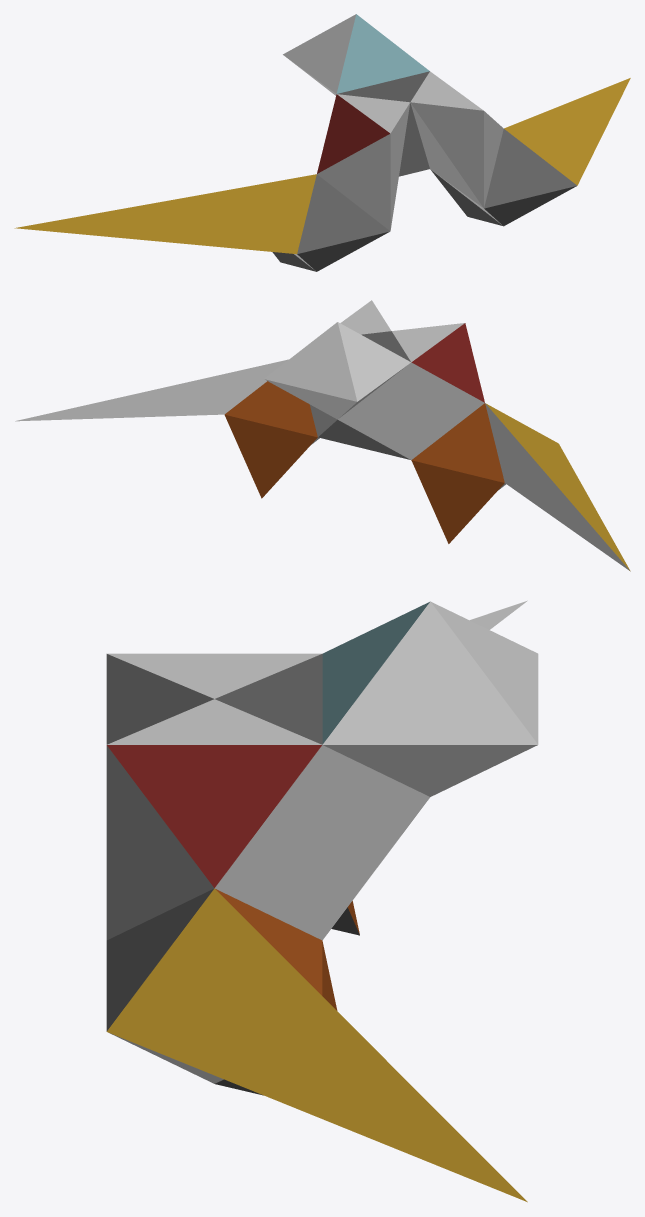
Rendered from Punisher.obj.
3 views of the same model, one above another, from view 1: azimuth 30°, elevation 25°; view 2: azimuth 150°, elevation 25°; view 3: azimuth 270°, elevation 25° (orthographic). The views are drawn at different scales.
Visible parts, largest first — view 1: Punisher; view 2: Punisher; view 3: Punisher.
Boxes of the visible parts, x1=… form: Punisher: x1=14, y1=14, x2=630, y2=271; Punisher: x1=15, y1=300, x2=630, y2=571; Punisher: x1=106, y1=600, x2=538, y2=1202.
Bounding box in the file's own units: 3.3 × 1.09 × 1.
